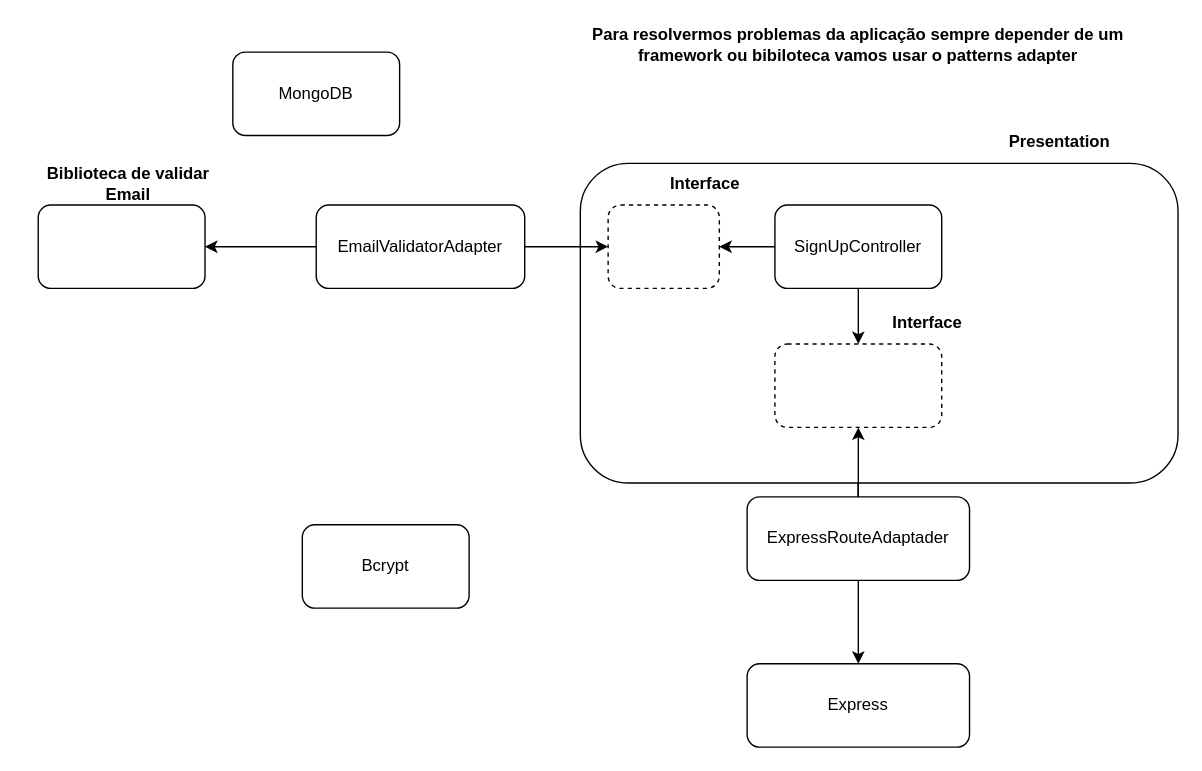
This 1202x771 diagram has some shape labels left out. The shapes that lost their labels are listed below. From the top down, each one's box as (x1, y1, x2, y2) in pixels, then its label:
(37, 204, 205, 288): Validator
(607, 204, 719, 288): EmailValidator
(774, 343, 942, 427): Controller
